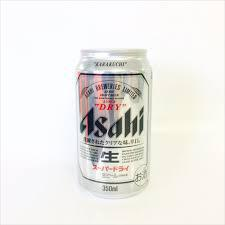beer: (72, 46, 152, 199)
